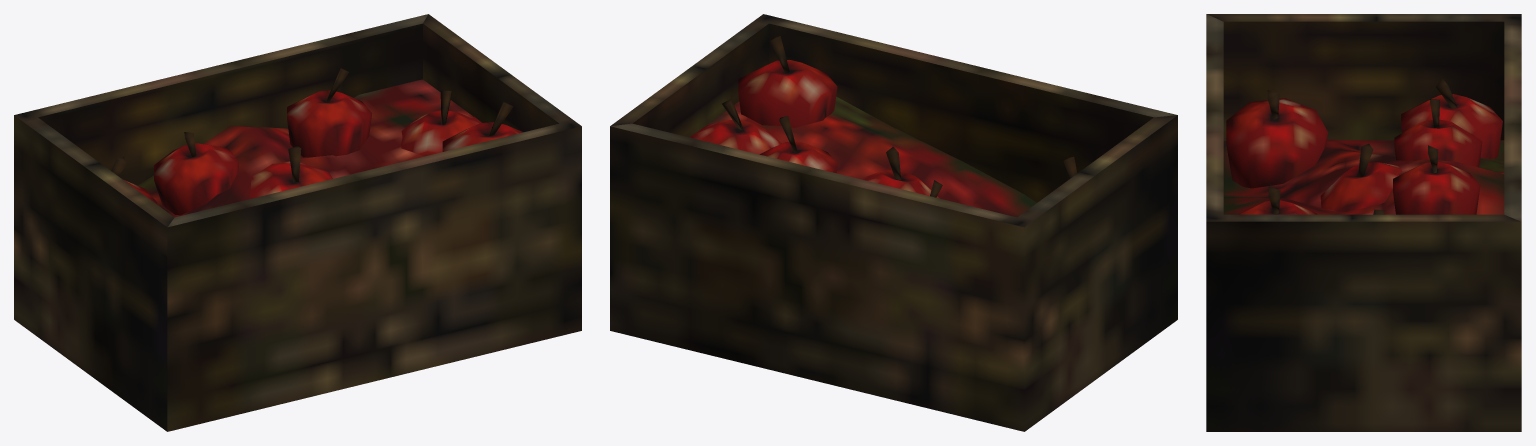
The model's file is b_general_obj_22_01.fbx.
3 renders of one model, left to right at view 1: azimuth 30°, elevation 25°; view 2: azimuth 150°, elevation 25°; view 3: azimuth 270°, elevation 25°, orthographic. The views are drawn at different scales.
Visible parts, largest first — view 1: Sphere01; view 2: Sphere01; view 3: Sphere01.
Boxes of the visible parts, <box> form: Sphere01: <box>14,14,581,431</box>; Sphere01: <box>610,14,1177,431</box>; Sphere01: <box>1206,14,1521,431</box>.
Size of the model in its own units: 1.06 by 0.5309 by 0.6822.
